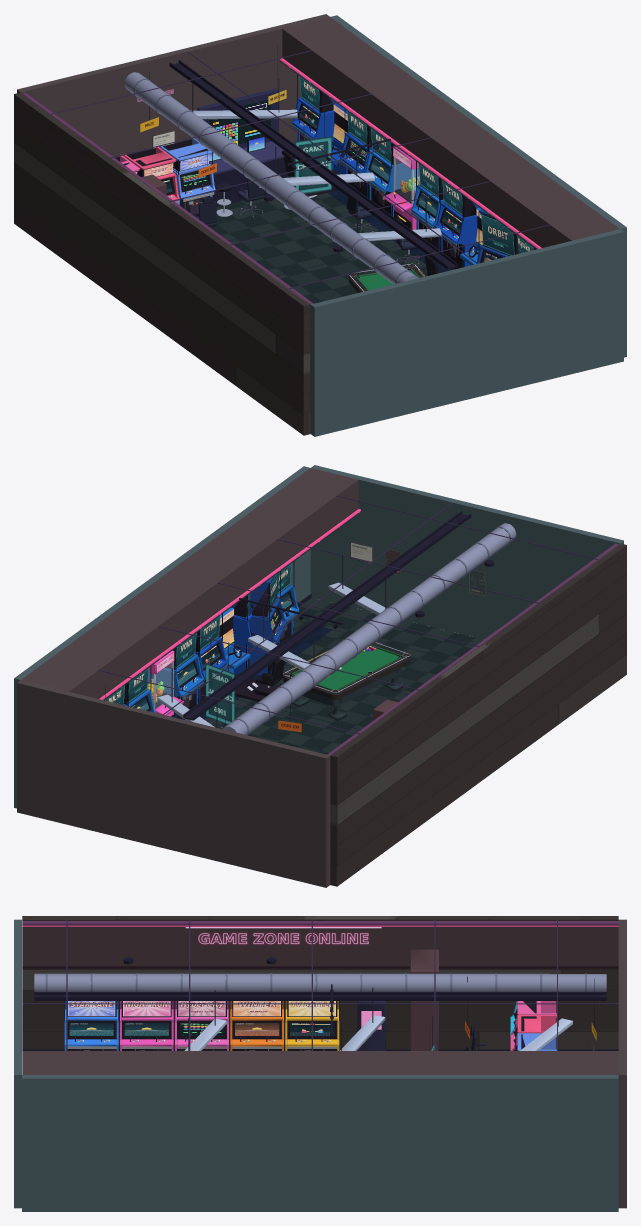
Rendered from game-room-1-night.lod1.glb.
3 views of the same model, one above another, from view 1: azimuth 30°, elevation 25°; view 2: azimuth 150°, elevation 25°; view 3: azimuth 270°, elevation 25° (orthographic). The views are drawn at different scales.
Visible parts, largest first — view 1: object 39, object 38, object 44, object 40, object 36, object 202, object 204, object 208, object 45, object 108, object 56, object 102 (+19 smaller); view 2: object 40, object 38, object 39, object 44, object 36, object 202, object 204, object 45, object 208, object 102, object 56, object 172 (+10 smaller); view 3: object 39, object 41, object 38, object 44, object 202, object 204, object 49, spot:rig-seven, object 40, object 45, object 53, object 208 (+20 smaller).
Boxes of the visible parts, left/top/right/bottom form: object 39: left=310, top=15, right=626, bottom=436; object 38: left=14, top=92, right=310, bottom=435; object 44: left=282, top=17, right=619, bottom=247; object 40: left=17, top=14, right=329, bottom=157; object 36: left=209, top=157, right=453, bottom=303; object 202: left=125, top=72, right=418, bottom=284; object 204: left=169, top=60, right=457, bottom=269; object 208: left=115, top=90, right=536, bottom=268; object 45: left=51, top=50, right=549, bottom=288; object 108: left=292, top=97, right=478, bottom=266; object 56: left=191, top=109, right=441, bottom=240; object 102: left=364, top=150, right=481, bottom=265; object 40: left=17, top=680, right=330, bottom=887; object 38: left=330, top=543, right=626, bottom=886; object 39: left=14, top=465, right=623, bottom=808; object 44: left=21, top=468, right=358, bottom=698; object 36: left=200, top=598, right=483, bottom=754; object 202: left=223, top=523, right=516, bottom=734; object 204: left=183, top=511, right=493, bottom=720; object 45: left=98, top=495, right=598, bottom=734; object 208: left=105, top=576, right=291, bottom=718; object 102: left=123, top=585, right=299, bottom=717; object 56: left=157, top=582, right=385, bottom=727; object 172: left=294, top=648, right=399, bottom=690; object 39: left=14, top=919, right=618, bottom=1211; object 41: left=22, top=926, right=618, bottom=965; object 38: left=22, top=916, right=618, bottom=1049; object 44: left=22, top=1051, right=618, bottom=1074; object 202: left=34, top=973, right=606, bottom=991; object 204: left=34, top=957, right=606, bottom=1037; object 49: left=22, top=921, right=618, bottom=925; spot:rig-seven: left=285, top=1001, right=339, bottom=1050; object 40: left=618, top=919, right=626, bottom=1208; object 45: left=22, top=919, right=618, bottom=1050; object 53: left=410, top=949, right=438, bottom=1050; object 208: left=67, top=1001, right=556, bottom=1050.
Bounding box in the file's own units: 9.4 × 3.6 × 15.
Materials: 216 (78 with a texture image).
